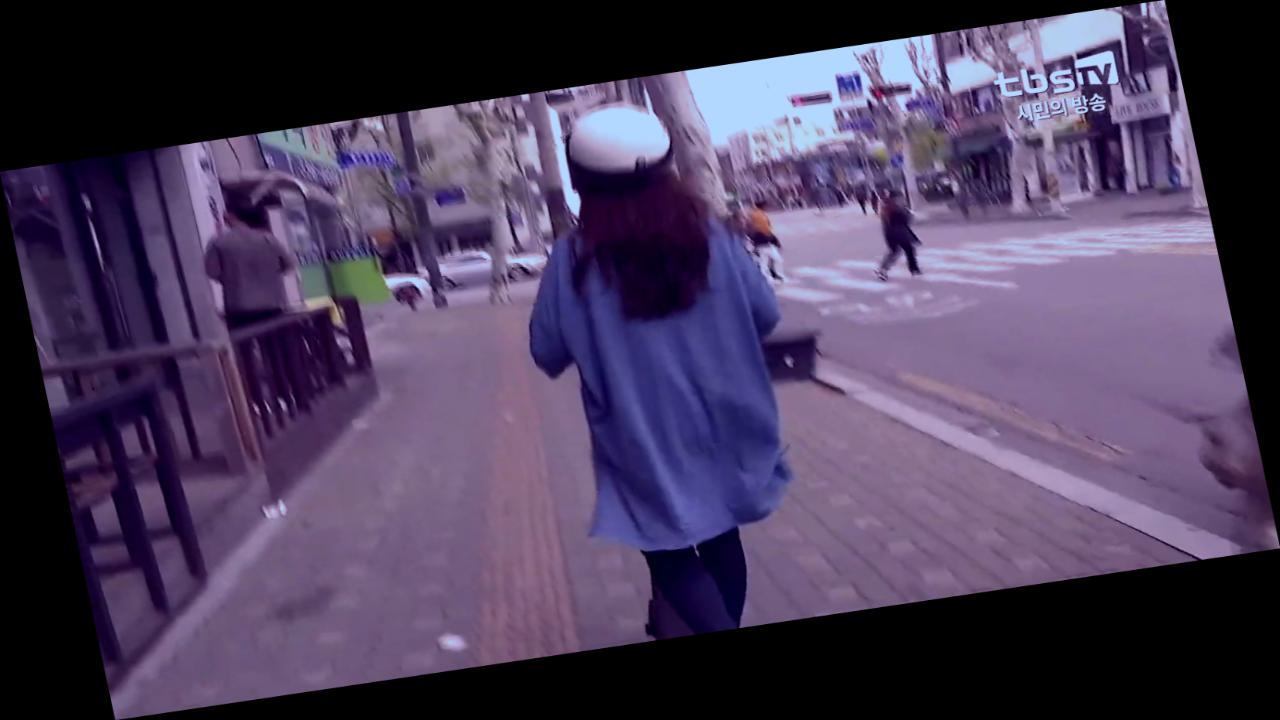helmet: (476, 84, 852, 650)
